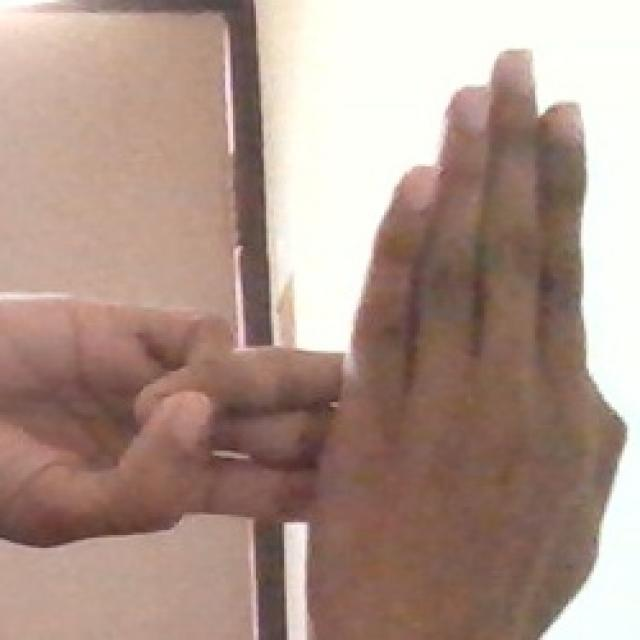Alphabet-M: (0, 41, 640, 640)
